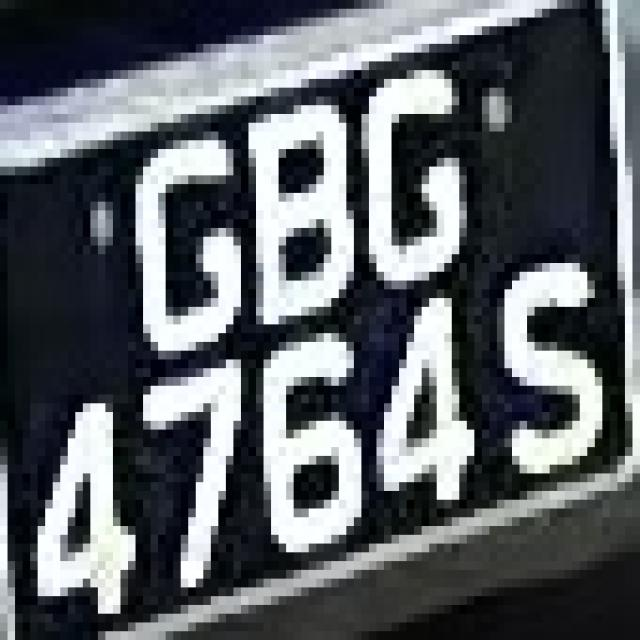4: (0, 359, 136, 632), (361, 263, 482, 544)
6: (241, 307, 384, 570)
7: (105, 342, 271, 596)
B: (218, 88, 369, 342)
G: (98, 114, 241, 351), (354, 53, 489, 289)
S: (474, 263, 618, 465)
